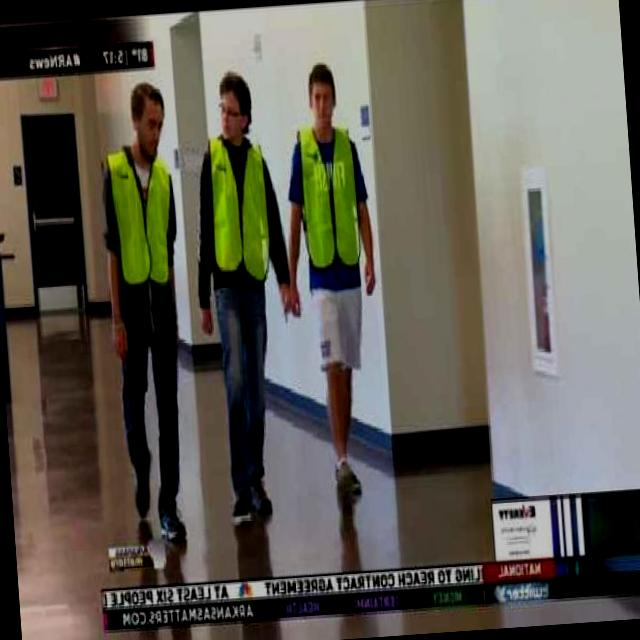boots: (150, 493, 194, 551), (220, 476, 258, 530)
no-gloves: (358, 262, 380, 296)
no-helmet: (120, 79, 170, 161), (213, 65, 256, 134), (301, 62, 340, 127)
vest: (290, 126, 370, 286), (198, 136, 278, 285), (100, 149, 178, 292)
